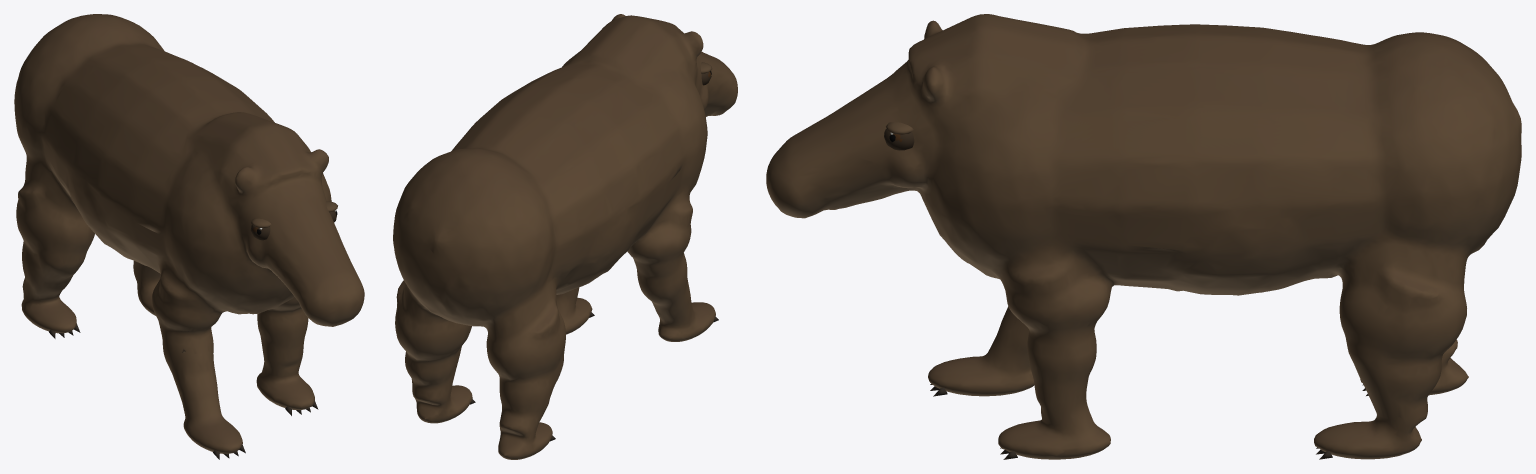
The model's file is DiprotodonOptatum.fbx.
3 views of the same model, side by side, from view 1: azimuth 30°, elevation 25°; view 2: azimuth 150°, elevation 25°; view 3: azimuth 270°, elevation 25° (orthographic). The views are drawn at different scales.
Parts seen in each view (by area): view 1: DiprotodonOptatum; view 2: DiprotodonOptatum; view 3: DiprotodonOptatum.
Boxes of the visible parts, box(x1,y1,x2,y2) form: DiprotodonOptatum: box(14, 14, 364, 459); DiprotodonOptatum: box(393, 14, 737, 459); DiprotodonOptatum: box(766, 14, 1521, 459).
Size of the model in its own units: 0.6476 by 1.14 by 1.94.
